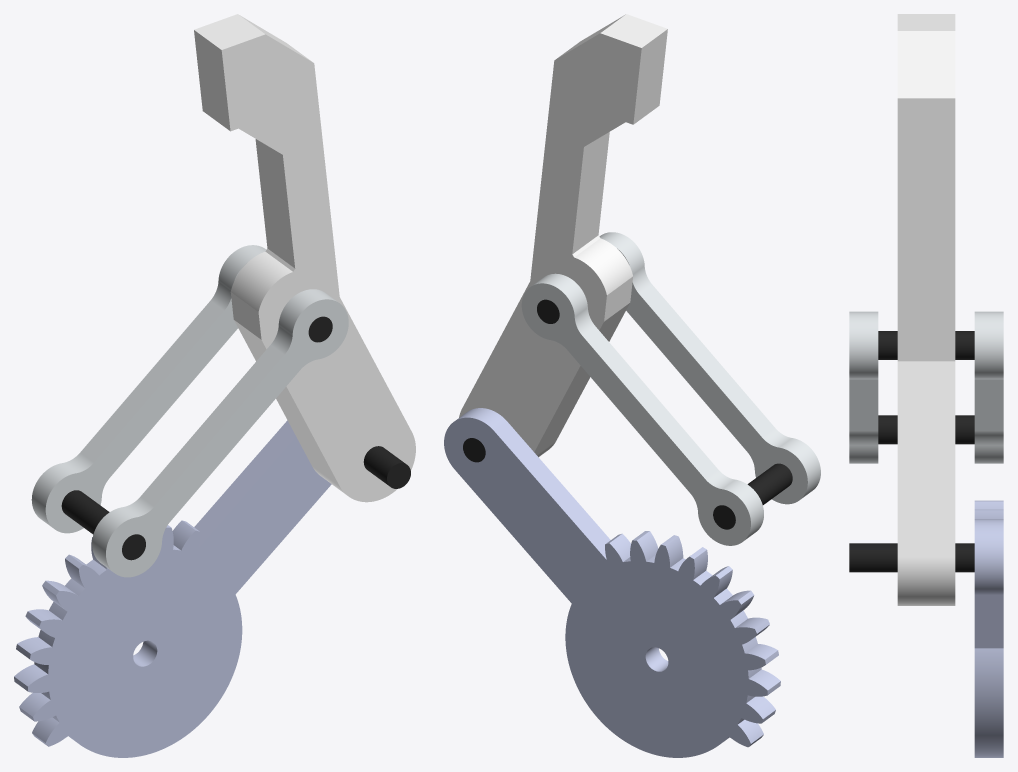
Rendered from pinza_B.obj.
3 renders of one model, left to right at view 1: azimuth 30°, elevation 25°; view 2: azimuth 150°, elevation 25°; view 3: azimuth 270°, elevation 25°, orthographic. The views are drawn at different scales.
Visible parts, largest first — view 1: Cut_Extrude1, Cut_Extrude2, Fillet1, Boss_Extrude1; view 2: Cut_Extrude1, Cut_Extrude2, Fillet1, Boss_Extrude1; view 3: Cut_Extrude2, Fillet1, Cut_Extrude1, Boss_Extrude1.
Boxes of the visible parts, x1,y1,x2,y2 form: Cut_Extrude1: (14, 420, 331, 757); Cut_Extrude2: (194, 14, 415, 502); Fillet1: (31, 245, 348, 577); Boss_Extrude1: (61, 316, 410, 560); Cut_Extrude1: (444, 408, 780, 757); Cut_Extrude2: (459, 14, 667, 457); Fillet1: (521, 232, 820, 545); Boss_Extrude1: (463, 299, 792, 529); Cut_Extrude2: (897, 14, 955, 605); Fillet1: (849, 311, 1003, 463); Cut_Extrude1: (974, 500, 1003, 757); Boss_Extrude1: (849, 331, 974, 572).
Bounding box in the file's own units: 1.72 × 3.41 × 0.6299.
